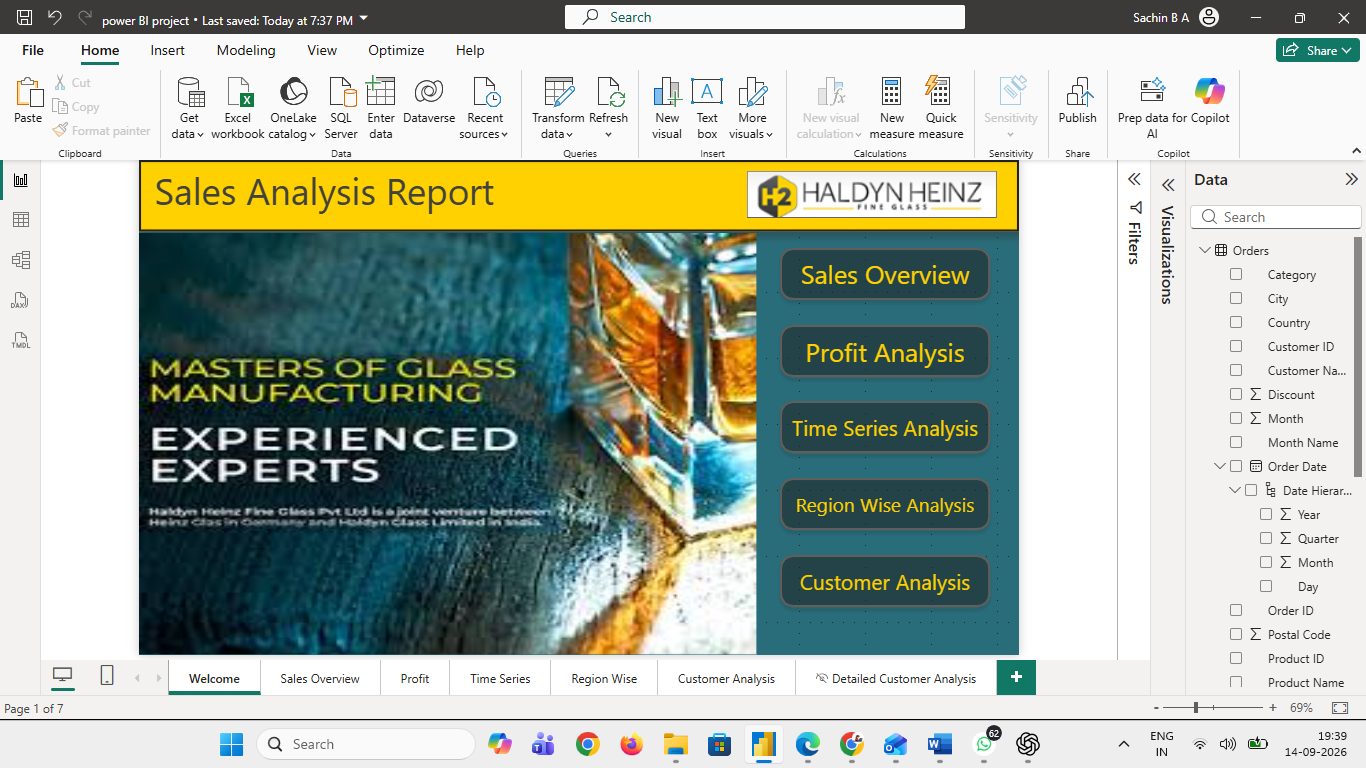

What the dashboard file says about the page in this screenshot:
{"tool":"powerbi","page":{"name":"Welcome","canvas":[1280,720],"ordinal":0},"visuals":[{"type":"textbox","box":[0,0,1280.5,103.9],"z":0},{"type":"image","box":[885,16.7,363.3,68.3],"z":1000},{"type":"image","box":[0,106.7,898.3,613.3],"z":2000},{"type":"actionButton","box":[922.2,117.8,326.3,96],"z":3000},{"type":"actionButton","box":[922.2,229.2,326.2,96.2],"z":4000},{"type":"actionButton","box":[922.2,340.9,326.2,96.2],"z":5000},{"type":"actionButton","box":[922.2,452.7,326.2,96.2],"z":6000},{"type":"actionButton","box":[922.2,564.4,326.2,96.2],"z":6002}]}

Visuals, with their boxes on the page's 1280x720 design canvas (x1, y1, x2, y2). These are canvas units, not pixel positions in the 1366x768 screenshot, which may show the page scaled, cropped or inside an application window:
textbox: rect(0, 0, 1280, 104)
image: rect(885, 17, 1248, 85)
image: rect(0, 107, 898, 720)
actionButton: rect(922, 118, 1248, 214)
actionButton: rect(922, 229, 1248, 325)
actionButton: rect(922, 341, 1248, 437)
actionButton: rect(922, 453, 1248, 549)
actionButton: rect(922, 564, 1248, 661)
